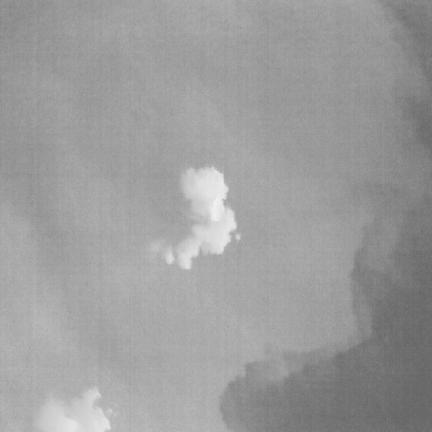flukeprints: (163, 167, 236, 268)
